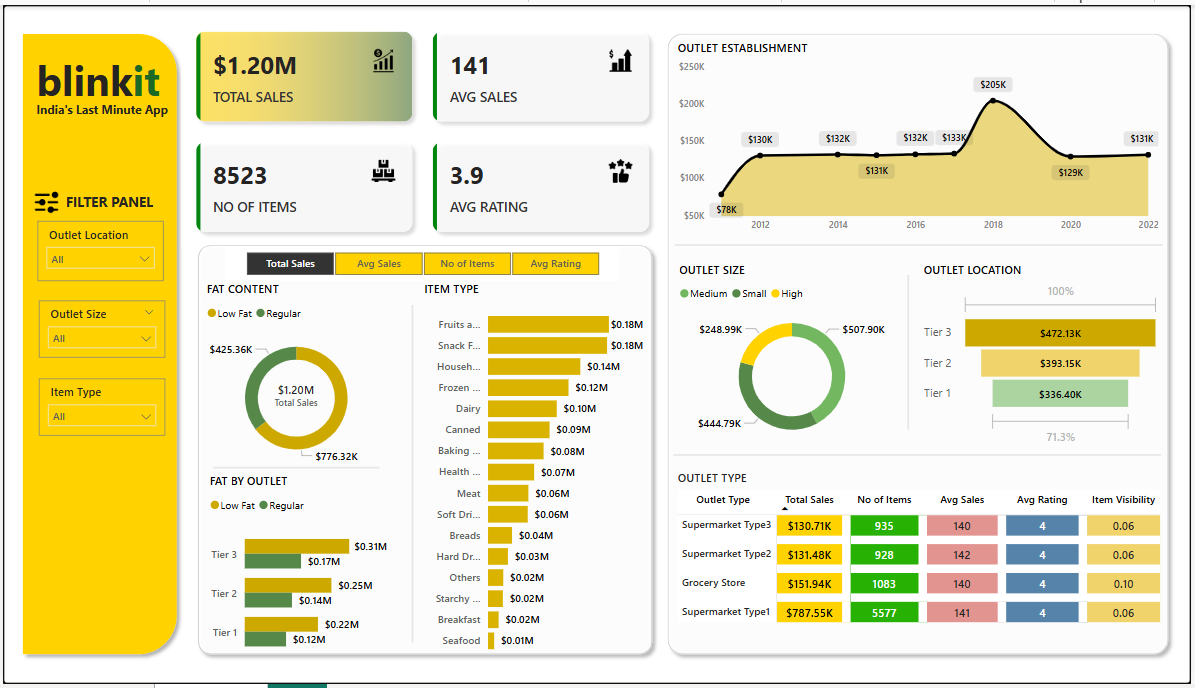

Layout of this report page (visuals, bound fields, positions):
{"tool":"powerbi","page":{"name":"Page 1","canvas":[1400,800],"ordinal":0},"visuals":[{"type":"shape","box":[14.1,24.7,199.7,749.4],"z":0},{"type":"textbox","box":[12.4,49.5,199.7,76],"z":1000},{"type":"textbox","box":[26.5,107.8,180.3,35.3],"z":2000},{"type":"cardVisual","fields":{"Data":["Measures (2).Total Sales","Measures (2).Avg Sales","Measures (2).No of Items","Measures (2).Avg Rating"]},"box":[210.3,14.1,568,270.4],"z":3000},{"type":"shape","box":[220.9,273.9,553.2,500.2],"z":4000},{"type":"donutChart","title":"FAT CONTENT","fields":{"Y":["Measures (2).Total Sales"],"Category":["BlinkIT Grocery Data.Item Fat Content"]},"box":[235.1,325.2,220.9,229.8],"z":5000},{"type":"slicer","fields":{"Values":["Metric.Metric"]},"box":[261.6,284.5,464.8,40.6],"z":6000},{"type":"cardVisual","fields":{"Data":["Measures (2).Total Sales"]},"box":[282.8,415.3,125.5,88.4],"z":7000},{"type":"clusteredBarChart","title":"ITEM TYPE","fields":{"Y":["Measures (2).Total Sales"],"Category":["BlinkIT Grocery Data.Item Type"]},"box":[491.3,325.2,268.6,448.9],"z":8000},{"type":"clusteredBarChart","title":"FAT BY OUTLET","fields":{"Y":["Measures (2).Total Sales"],"Category":["BlinkIT Grocery Data.Outlet Location Type"],"Series":["BlinkIT Grocery Data.Item Fat Content"]},"box":[238.6,551.4,219.2,229.8],"z":9000},{"type":"shape","box":[247.4,535.5,196.2,19.4],"z":10000},{"type":"shape","box":[473.6,353.5,17.7,397.7],"z":11000},{"type":"shape","box":[774.1,24.7,608,749.4],"z":12000},{"type":"lineChart","title":"OUTLET ESTABLISHMENT","fields":{"Y":["Measures (2).Total Sales"],"Category":["BlinkIT Grocery Data.Outlet Establishment Year"]},"box":[790,40.6,576.2,235.1],"z":13000},{"type":"shape","box":[791.8,277.5,574.4,10.6],"z":14000},{"type":"donutChart","title":"OUTLET SIZE","fields":{"Y":["Measures (2).Total Sales"],"Category":["BlinkIT Grocery Data.Outlet Size"]},"box":[791.8,302.2,275.7,224.5],"z":15000},{"type":"shape","box":[1060.4,318.1,12.4,182],"z":16000},{"type":"funnel","title":"OUTLET LOCATION","fields":{"Y":["Measures (2).Total Sales"],"Category":["BlinkIT Grocery Data.Outlet Location Type"]},"box":[1079.8,302.2,288.1,220.9],"z":17000},{"type":"shape","box":[790,524.9,574.4,10.6],"z":18000},{"type":"pivotTable","title":"OUTLET TYPE","fields":{"Rows":["BlinkIT Grocery Data.Outlet Type"],"Values":["Measures (2).Total Sales","Measures (2).No of Items","Measures (2).Avg Sales","Measures (2).Avg Rating","Avg(BlinkIT Grocery Data.Item Visibility)"]},"box":[790,547.9,588.5,210.3],"z":19000},{"type":"slicer","fields":{"Values":["BlinkIT Grocery Data.Outlet Location Type"]},"box":[40.6,254.5,148.5,70.7],"z":20000},{"type":"slicer","fields":{"Values":["BlinkIT Grocery Data.Outlet Size"]},"box":[42.4,348.2,148.5,67.2],"z":21000},{"type":"slicer","fields":{"Values":["BlinkIT Grocery Data.Item Type"]},"box":[42.4,440.1,148.5,67.2],"z":22000},{"type":"textbox","box":[68.9,215.6,125.5,33.6],"z":23000},{"type":"image","box":[28.3,212.1,46,40.6],"z":23001}]}

Visuals, with their boxes in screenshot pixels (x1, y1, x2, y2), scaled from the page's 1400x800 canvas onto the 1195x688 screenshot:
shape: <region>12, 21, 182, 666</region>
textbox: <region>11, 43, 181, 108</region>
textbox: <region>23, 93, 177, 123</region>
cardVisual - Measures (2).Total Sales x Measures (2).Avg Sales: <region>180, 12, 664, 245</region>
shape: <region>189, 236, 661, 666</region>
"FAT CONTENT" donutChart: <region>201, 280, 389, 477</region>
slicer - Metric.Metric: <region>223, 245, 620, 280</region>
cardVisual - Measures (2).Total Sales: <region>241, 357, 349, 433</region>
"ITEM TYPE" clusteredBarChart: <region>419, 280, 649, 666</region>
"FAT BY OUTLET" clusteredBarChart: <region>204, 474, 391, 672</region>
shape: <region>211, 461, 379, 477</region>
shape: <region>404, 304, 419, 646</region>
shape: <region>661, 21, 1180, 666</region>
"OUTLET ESTABLISHMENT" lineChart: <region>674, 35, 1166, 237</region>
shape: <region>676, 239, 1166, 248</region>
"OUTLET SIZE" donutChart: <region>676, 260, 911, 453</region>
shape: <region>905, 274, 916, 430</region>
"OUTLET LOCATION" funnel: <region>922, 260, 1168, 450</region>
shape: <region>674, 451, 1165, 461</region>
"OUTLET TYPE" pivotTable: <region>674, 471, 1177, 652</region>
slicer - BlinkIT Grocery Data.Outlet Location Type: <region>35, 219, 161, 280</region>
slicer - BlinkIT Grocery Data.Outlet Size: <region>36, 299, 163, 357</region>
slicer - BlinkIT Grocery Data.Item Type: <region>36, 378, 163, 436</region>
textbox: <region>59, 185, 166, 214</region>
image: <region>24, 182, 63, 217</region>
